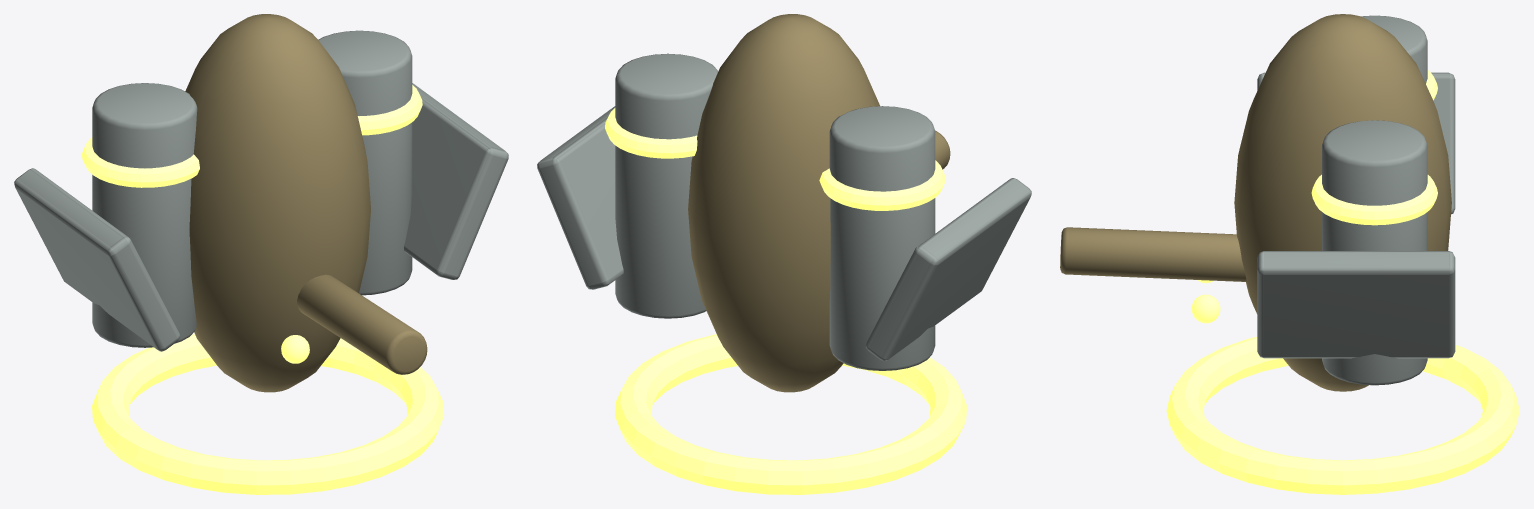
File: card_p3_disruptor.glb
The picture shows the model from 3 angles, left to right: view 1: azimuth 30°, elevation 25°; view 2: azimuth 150°, elevation 25°; view 3: azimuth 270°, elevation 25°; orthographic projection.
Visible parts, largest first — view 1: card_p3_disruptor; view 2: card_p3_disruptor; view 3: card_p3_disruptor.
Part boxes in pixels (bbox=[...]): card_p3_disruptor: bbox=[14, 14, 508, 494]; card_p3_disruptor: bbox=[537, 14, 1031, 494]; card_p3_disruptor: bbox=[1060, 14, 1519, 494].
Bounding box in the file's own units: 1.75 × 1.71 × 1.74.
